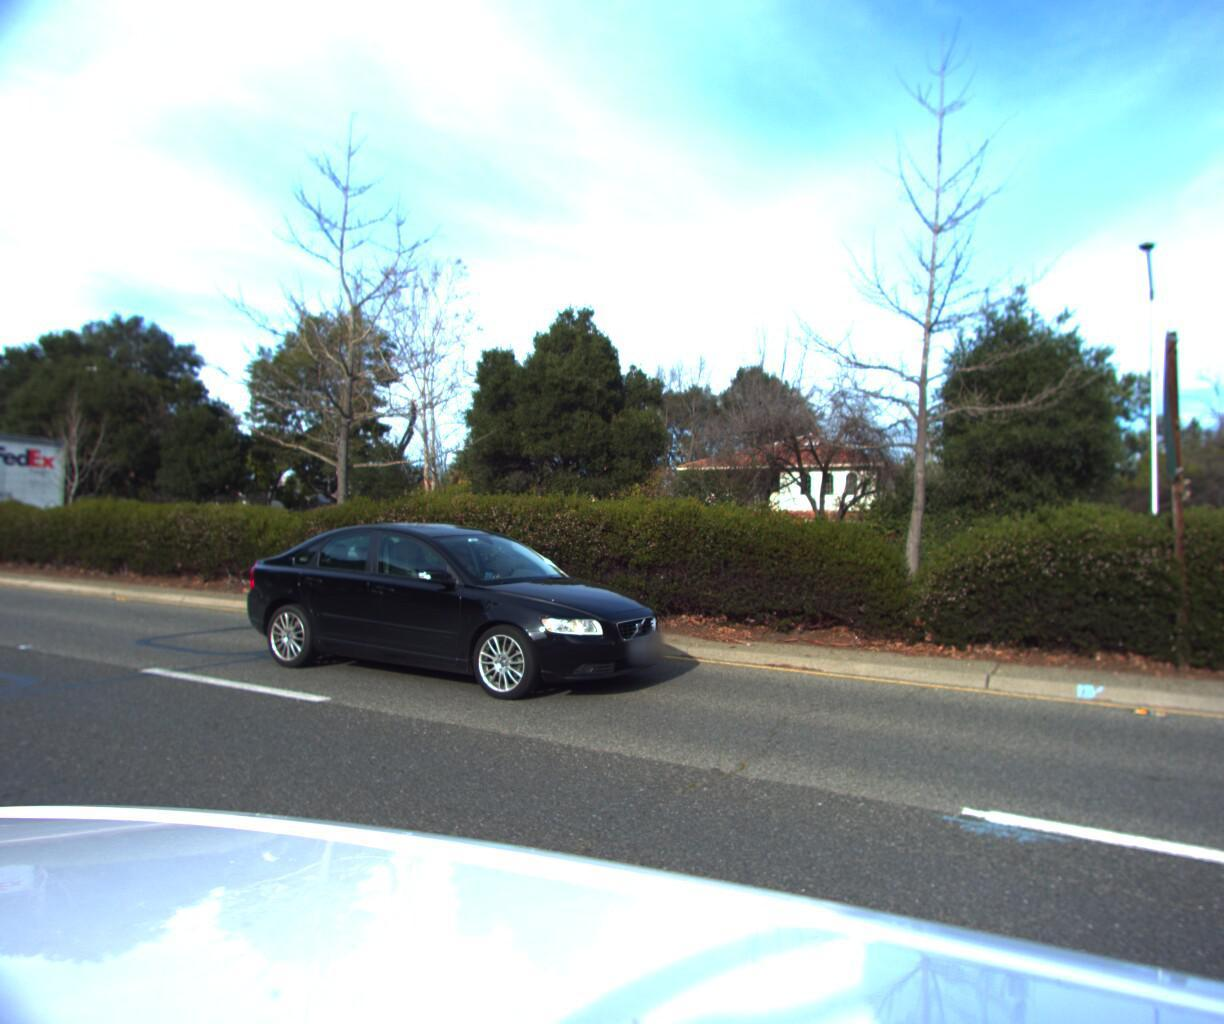car: (224, 515, 677, 713)
truck: (0, 434, 88, 556)
